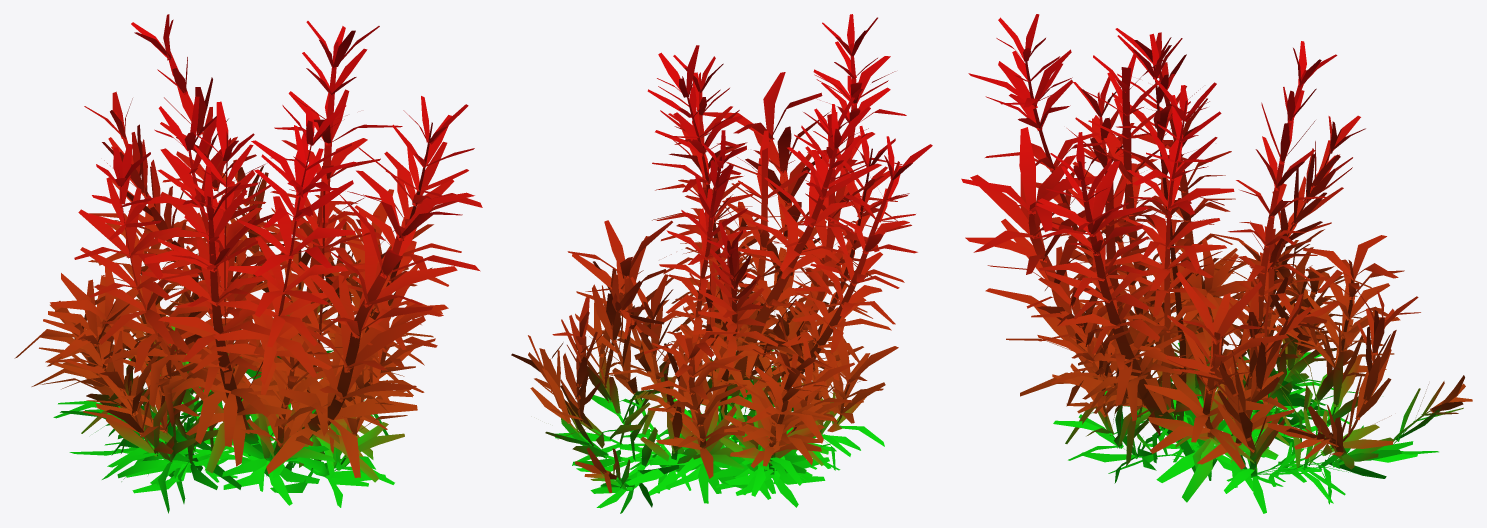
The model's file is Var5_LOD3.fbx.
3 renders of one model, left to right at view 1: azimuth 30°, elevation 25°; view 2: azimuth 150°, elevation 25°; view 3: azimuth 270°, elevation 25°, orthographic. The views are drawn at different scales.
Parts seen in each view (by area): view 1: _yw51_Var5_LOD3; view 2: _yw51_Var5_LOD3; view 3: _yw51_Var5_LOD3.
Boxes of the visible parts, x1,y1,x2,y2 form: _yw51_Var5_LOD3: (14,14,482,513); _yw51_Var5_LOD3: (511,14,932,513); _yw51_Var5_LOD3: (961,14,1472,513).
Bounding box in the file's own units: 27.13 × 30.07 × 32.83.
